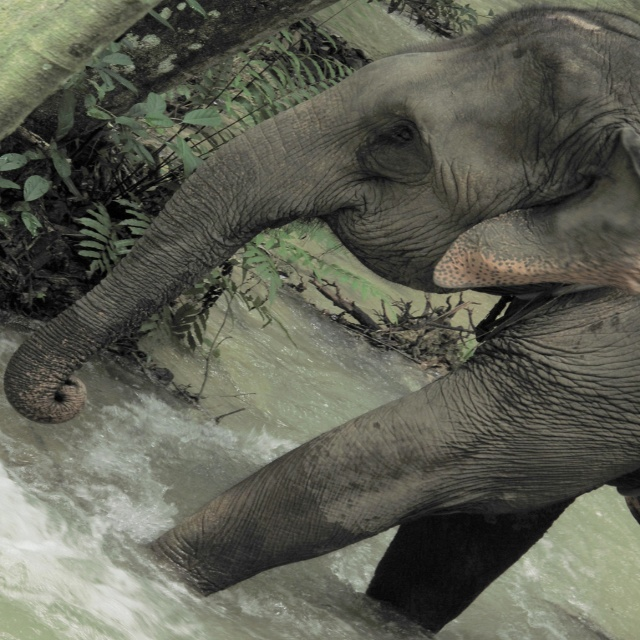Elephant: (2, 4, 639, 630)
